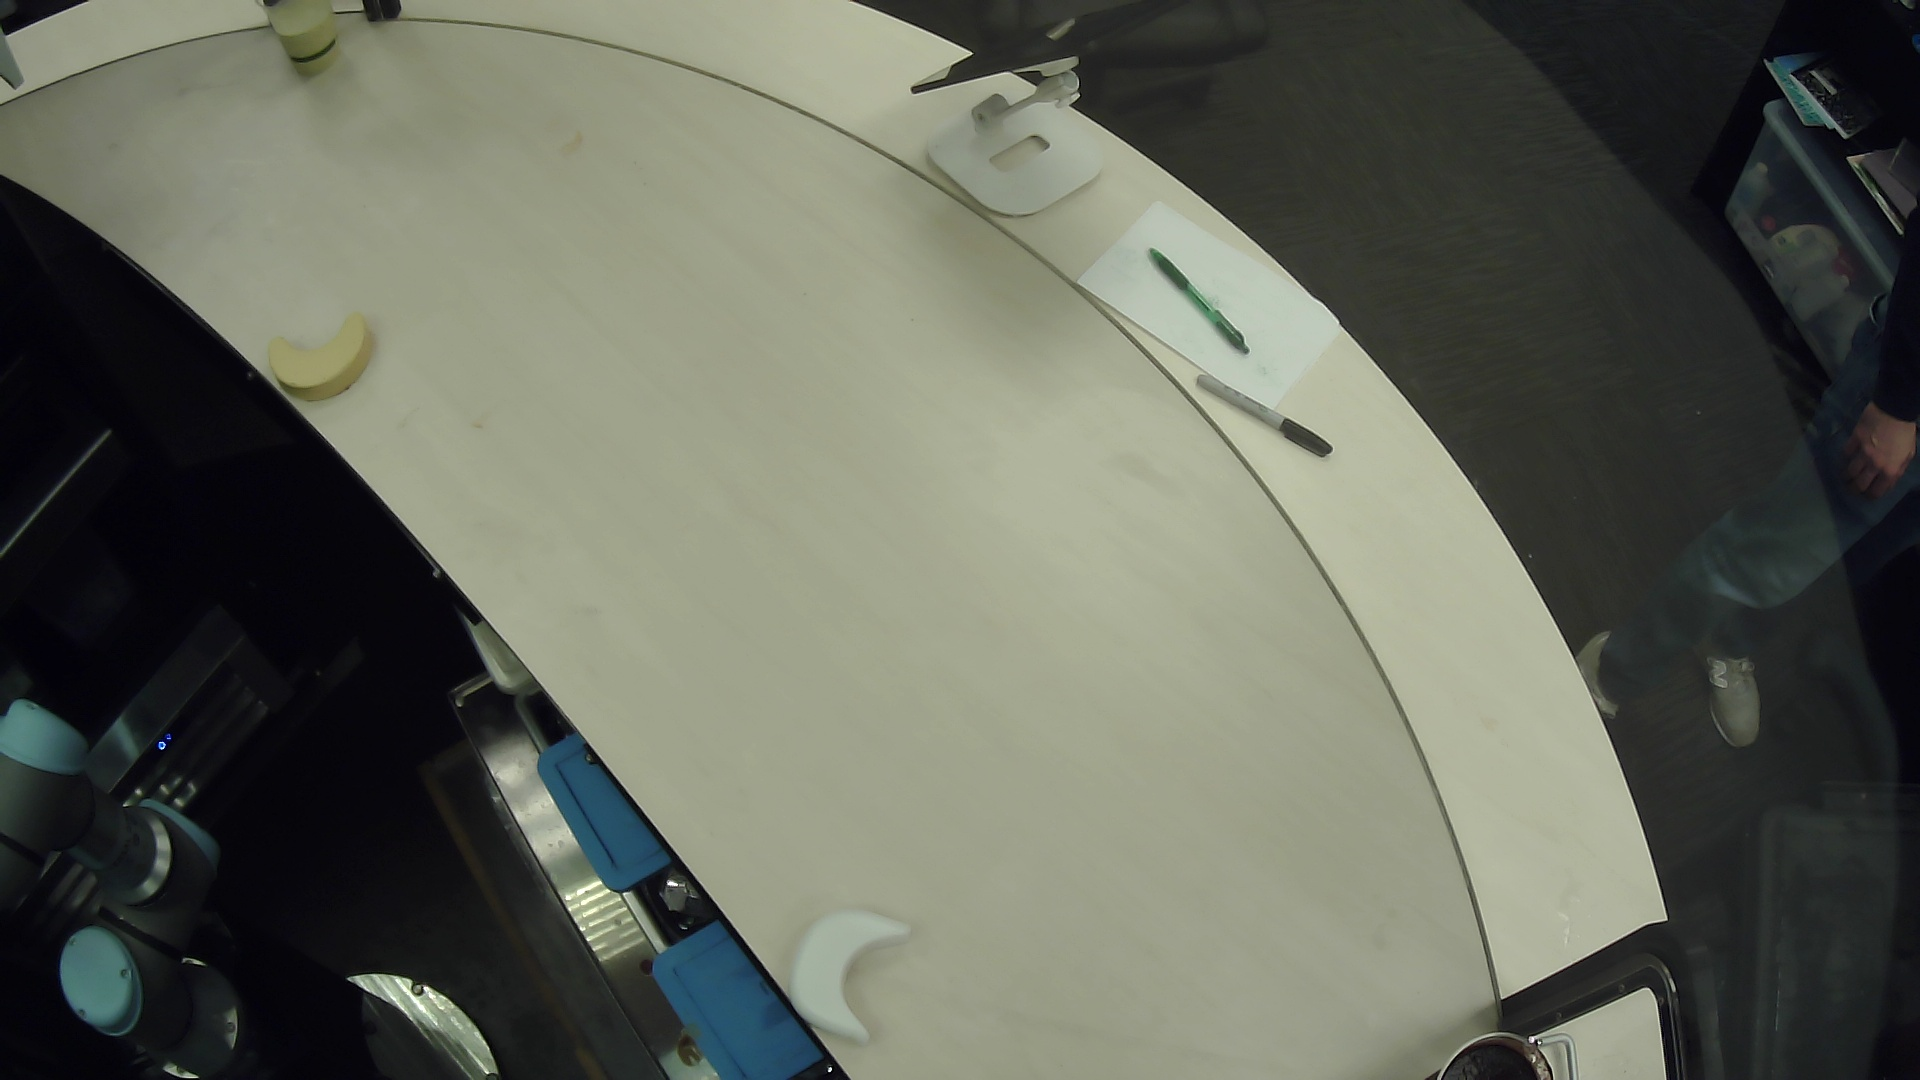Deliver: (767, 874, 939, 1048), (251, 299, 406, 427)
Full_cup: (1375, 996, 1618, 1080), (251, 1, 369, 103)
